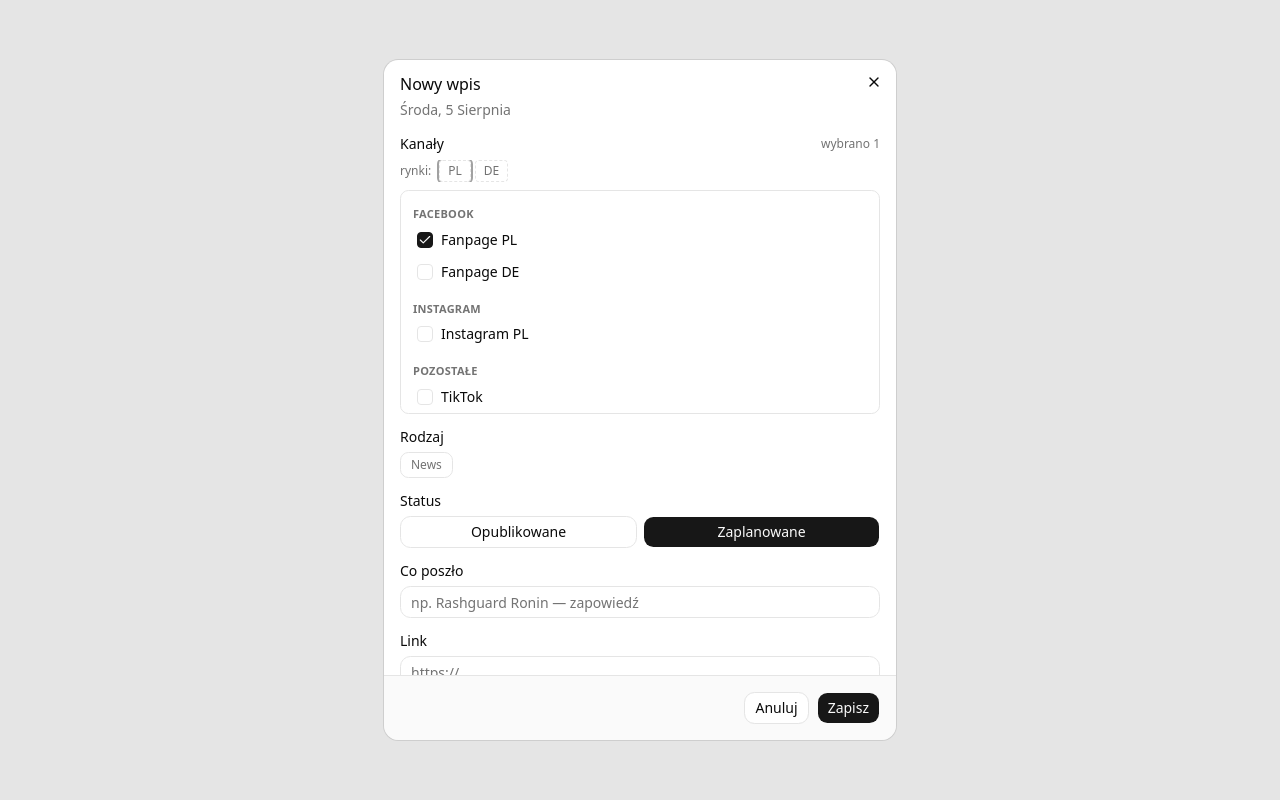
Test case: PublicationDialog — dodawanie na kilka kanałów › nie da się zapisać bez żadnego kanału
Click the checkbox named "Fanpage PL" next to "Fanpage PL" at coordinates (425, 240), box 417,232 -> 433,248
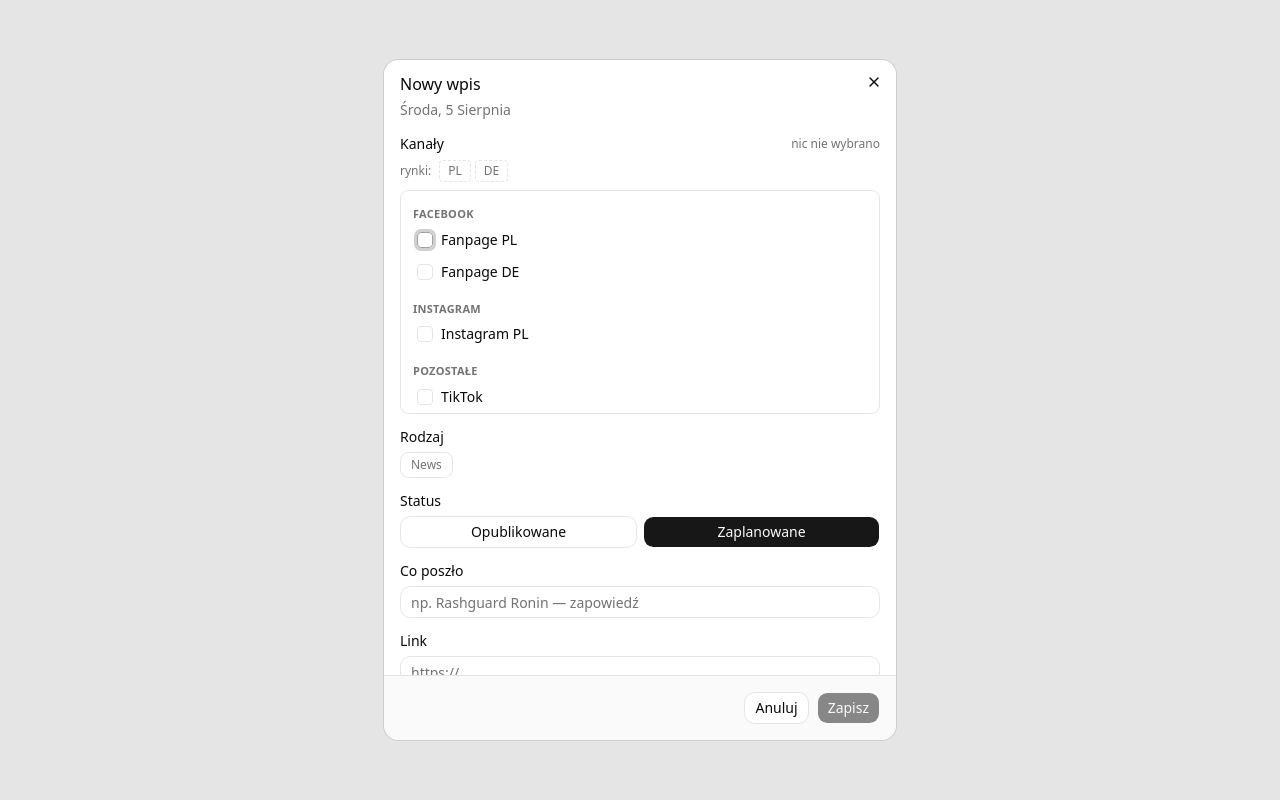
Expected: the button "Zapisz" is disabled, 817,692 -> 880,724
